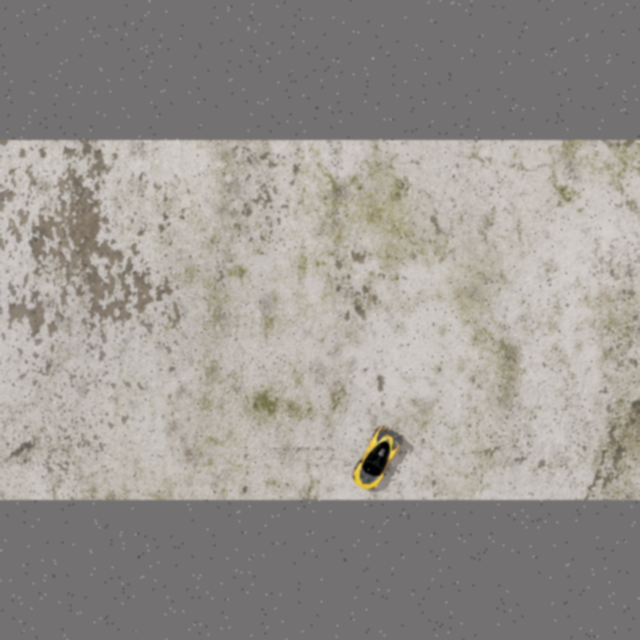car: (346, 422, 406, 498)
